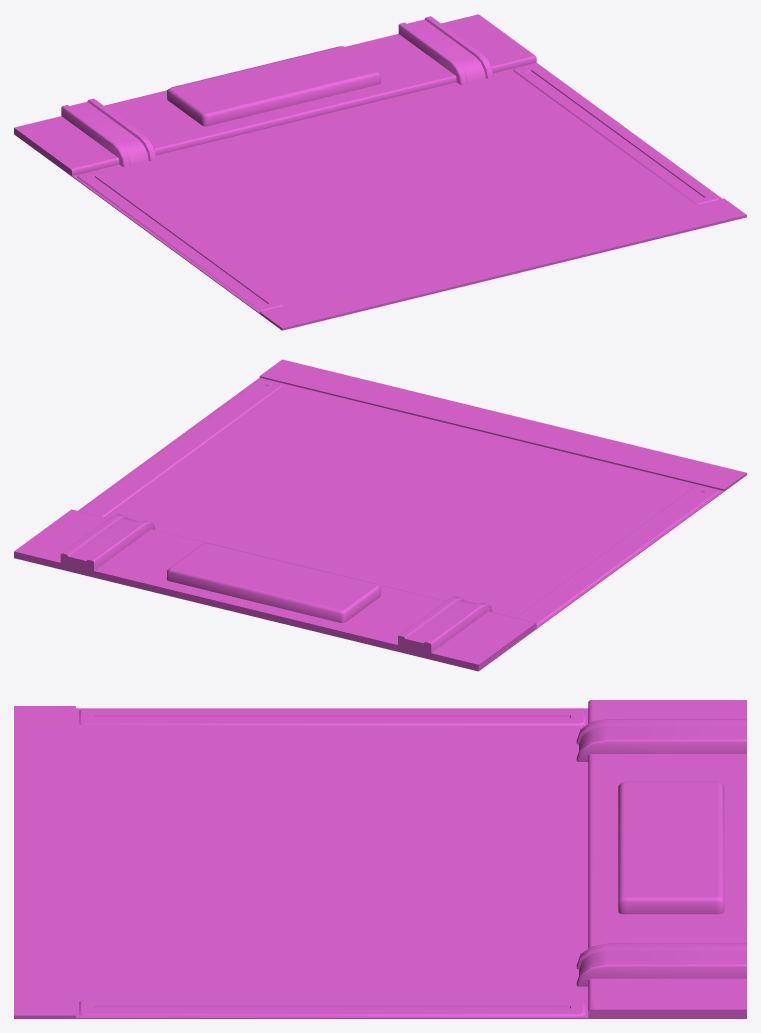
Rendered from Floor02.fbx.
3 renders of one model, top to bottom at view 1: azimuth 30°, elevation 25°; view 2: azimuth 150°, elevation 25°; view 3: azimuth 270°, elevation 25°, orthographic. The views are drawn at different scales.
Parts seen in each view (by area): view 1: SM_Floor02; view 2: SM_Floor02; view 3: SM_Floor02.
Part boxes in pixels (left/top/right/bottom): SM_Floor02: left=14, top=14, right=746, bottom=330; SM_Floor02: left=14, top=359, right=746, bottom=671; SM_Floor02: left=14, top=700, right=746, bottom=1018.
Bounding box in the file's own units: 200 × 7.3 × 200.
